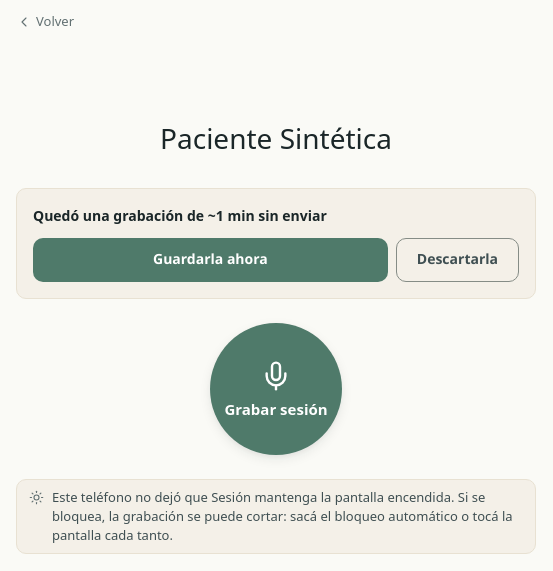
Test: al volver a entrar con una grabación sin turno guardada › se ofrece, y al guardarla crea el turno con la fecha original, no con la de hoy
Click the button "Guardarla ahora".
click(210, 260)  # box [33,238,388,282]
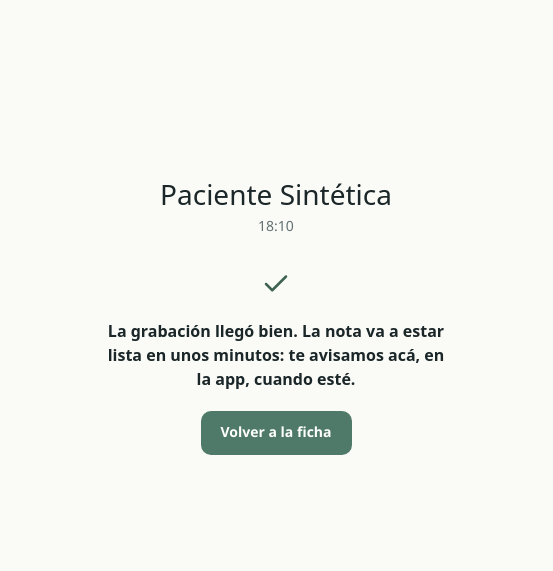
Expected: the text "La grabación llegó bien. La nota va a estar lista en unos minutos: te avisamos acá, en la app, cuando esté." is shown, [108,320,444,390]
